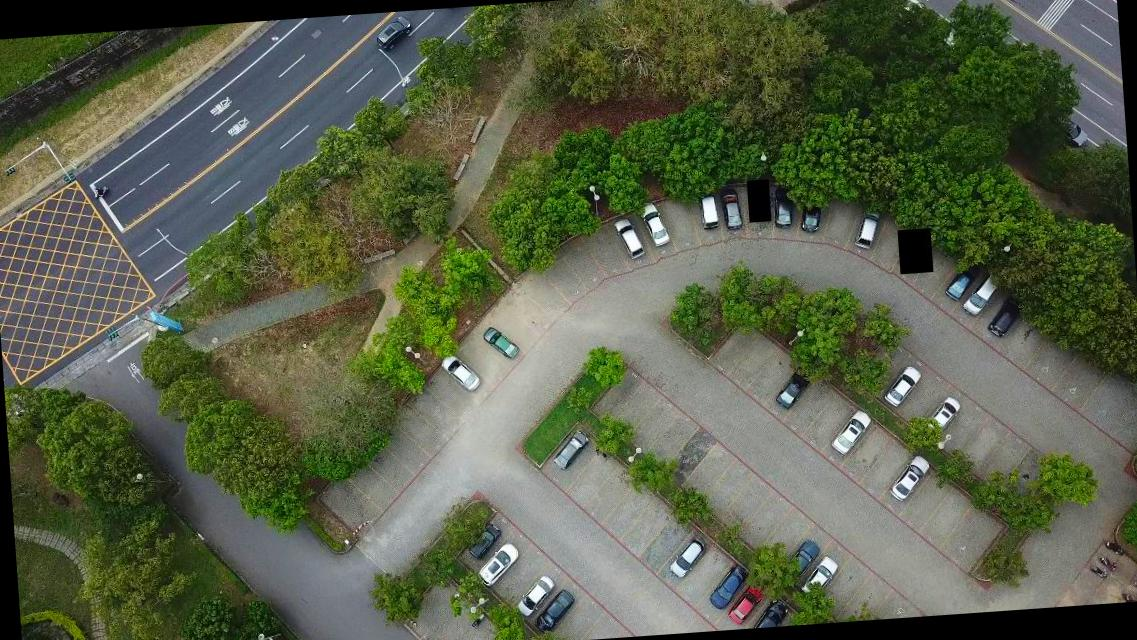vehicle: (886, 454, 930, 503), (722, 581, 770, 625), (828, 410, 873, 456), (706, 562, 748, 610), (960, 272, 1003, 318), (771, 365, 813, 412), (476, 541, 520, 585), (986, 294, 1028, 339), (881, 364, 924, 406), (666, 536, 707, 578), (516, 574, 556, 616), (534, 590, 574, 632), (440, 352, 480, 392), (552, 429, 590, 469), (940, 260, 976, 302), (637, 201, 669, 248), (784, 540, 821, 580), (373, 15, 412, 52), (924, 395, 960, 433), (852, 205, 882, 249), (466, 522, 500, 560), (482, 325, 518, 360), (613, 216, 643, 258), (750, 598, 788, 628), (718, 184, 742, 229), (771, 182, 792, 228), (695, 188, 717, 228), (798, 198, 820, 234)
